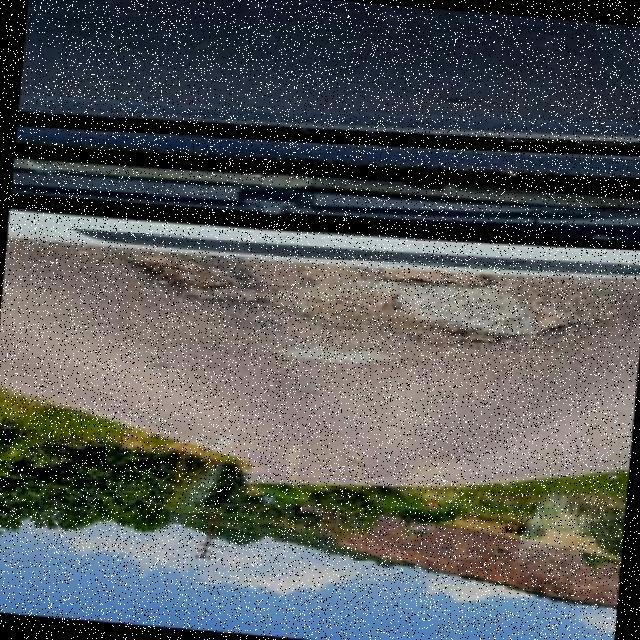Pothole: (128, 253, 586, 346)
